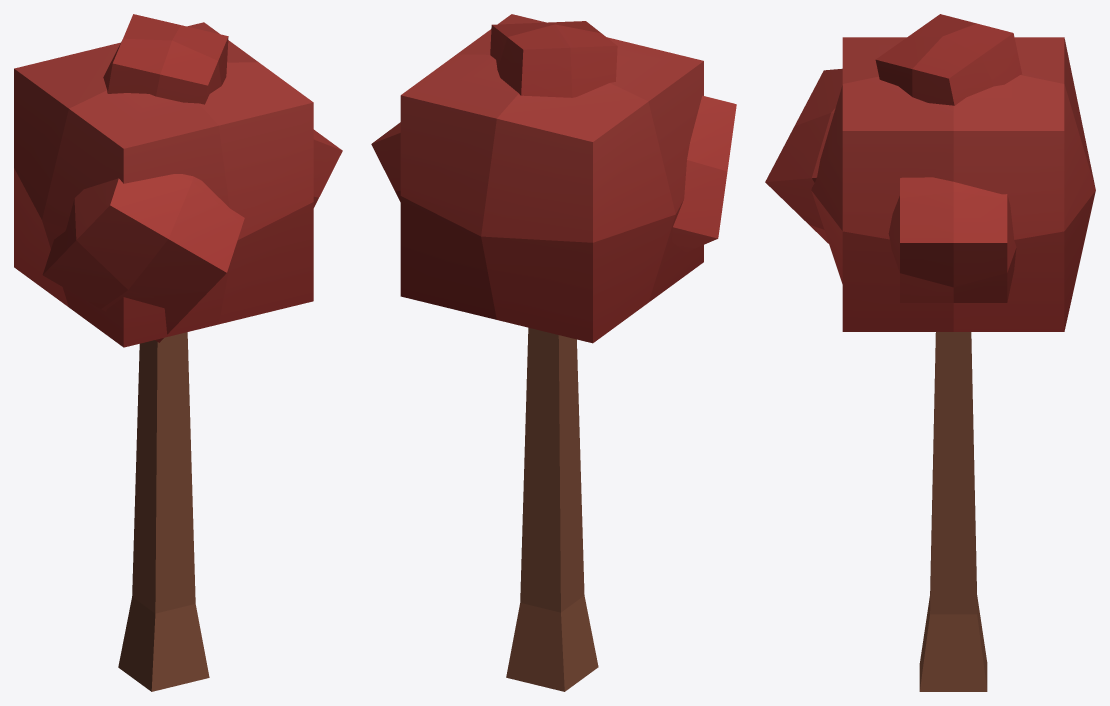
Rendered from Tree_43_gradient_red_vc.fbx.
The picture shows the model from 3 angles, left to right: view 1: azimuth 30°, elevation 25°; view 2: azimuth 150°, elevation 25°; view 3: azimuth 270°, elevation 25°; orthographic projection.
Parts seen in each view (by area): view 1: Tree_43_gradient_red_vc; view 2: Tree_43_gradient_red_vc; view 3: Tree_43_gradient_red_vc.
Boxes of the visible parts, x1,y1,x2,y2 form: Tree_43_gradient_red_vc: (14, 14, 342, 691); Tree_43_gradient_red_vc: (371, 14, 736, 691); Tree_43_gradient_red_vc: (765, 14, 1095, 691).
Size of the model in its own units: 76.72 by 158 by 73.68.
